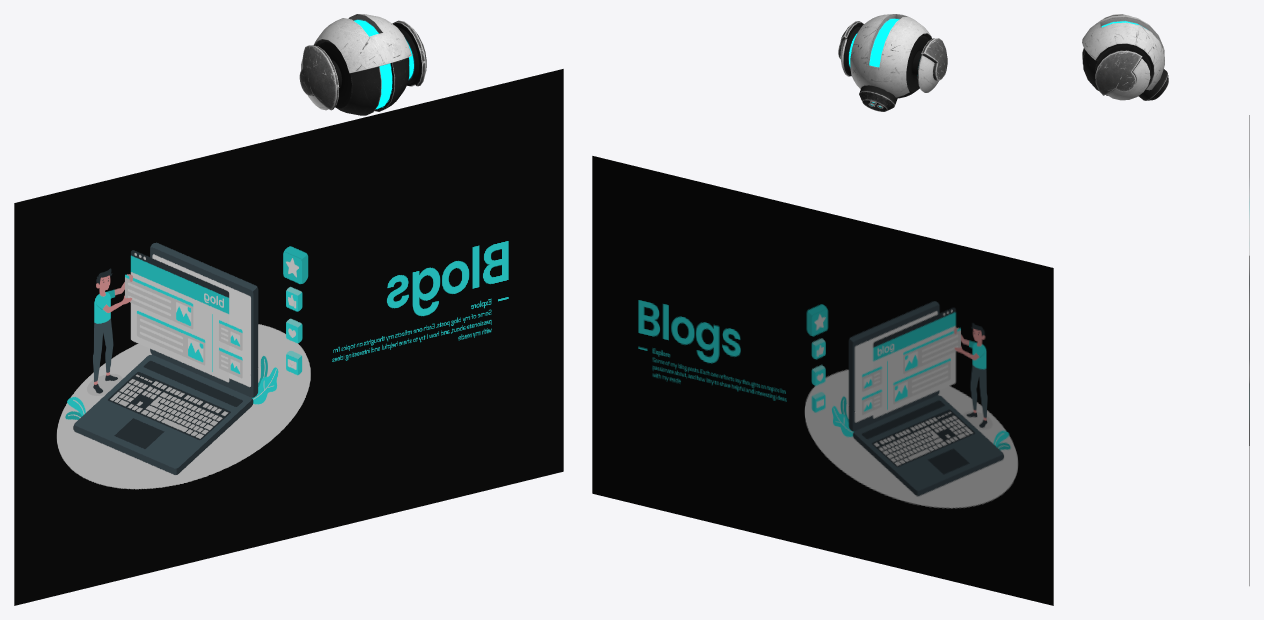
File: dronefinal.fbx
3 renders of one model, left to right at view 1: azimuth 30°, elevation 25°; view 2: azimuth 150°, elevation 25°; view 3: azimuth 270°, elevation 25°, orthographic. The views are drawn at different scales.
Parts seen in each view (by area): view 1: Object_5, Object_2; view 2: Object_5, Object_2; view 3: Object_2, Object_5.
Part boxes in pixels (left/top/right/bottom): Object_5: left=14, top=69, right=563, bottom=605; Object_2: left=299, top=14, right=426, bottom=115; Object_5: left=592, top=156, right=1053, bottom=605; Object_2: left=838, top=14, right=947, bottom=111; Object_2: left=1082, top=14, right=1168, bottom=100; Object_5: left=1249, top=115, right=1249, bottom=585.
Bounding box in the file's own units: 53.84 × 54.04 × 17.33.
2 materials, 2 textured.
